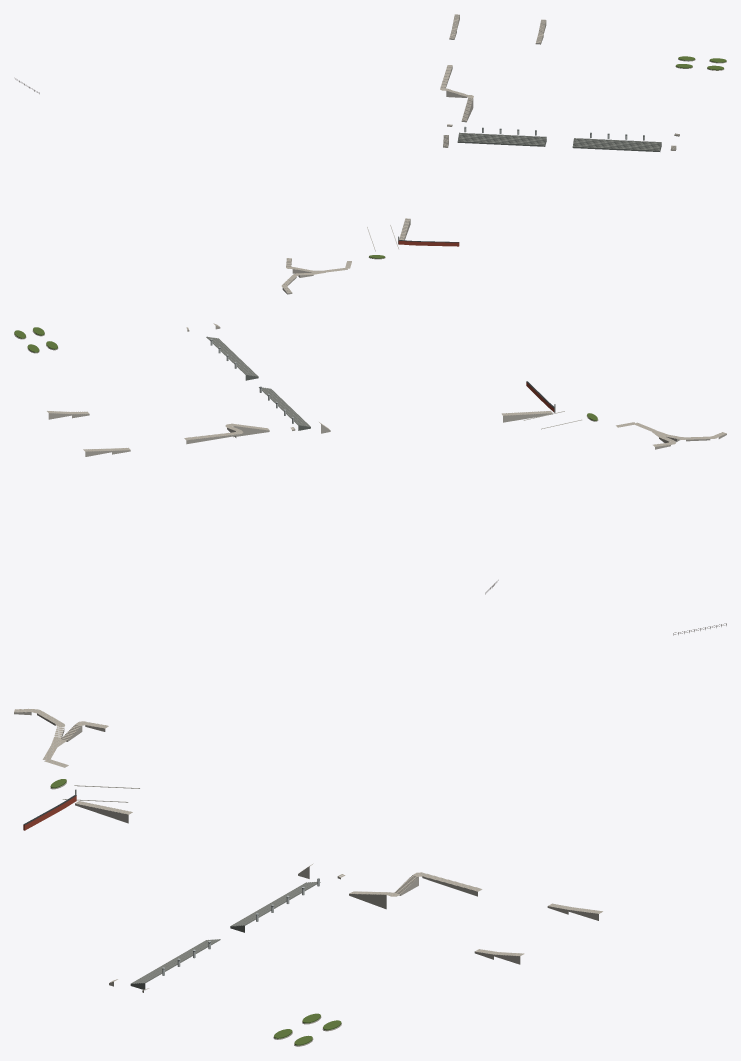
The picture shows the model from 3 angles, top to bottom: view 1: azimuth 30°, elevation 25°; view 2: azimuth 150°, elevation 25°; view 3: azimuth 270°, elevation 25°; orthographic projection. The views are drawn at different scales.
Visible parts, largest first — view 1: field-open-stand-1__standTread, field-open-stand-1__standRiser, kookmin-graniteLight, osm-steps-538108350-1__graniteRiser, field-open-stand-1__standNose; view 2: kookmin-graniteLight, osm-steps-538108350-1__graniteRiser, field-open-stand-1__standTread, field-open-stand-1__standNose; view 3: kookmin-graniteLight, osm-steps-538108350-1__graniteRiser, field-open-stand-1__standTread, field-open-stand-1__standNose.
Boxes of the visible parts, x1,y1,x2,y2 form: field-open-stand-1__standTread: (458, 132, 661, 150); field-open-stand-1__standRiser: (457, 133, 661, 151); kookmin-graniteLight: (281, 14, 679, 293); osm-steps-538108350-1__graniteRiser: (282, 15, 679, 294); field-open-stand-1__standNose: (458, 133, 660, 150); kookmin-graniteLight: (47, 323, 726, 451); osm-steps-538108350-1__graniteRiser: (48, 326, 726, 456); field-open-stand-1__standTread: (206, 336, 310, 426); field-open-stand-1__standNose: (208, 337, 310, 426); kookmin-graniteLight: (14, 708, 602, 990); osm-steps-538108350-1__graniteRiser: (14, 712, 598, 992); field-open-stand-1__standTread: (131, 882, 320, 983); field-open-stand-1__standNose: (131, 881, 316, 983).
Bounding box in the file's own units: 331 × 25.81 × 247.
13 materials, 1 textured.
